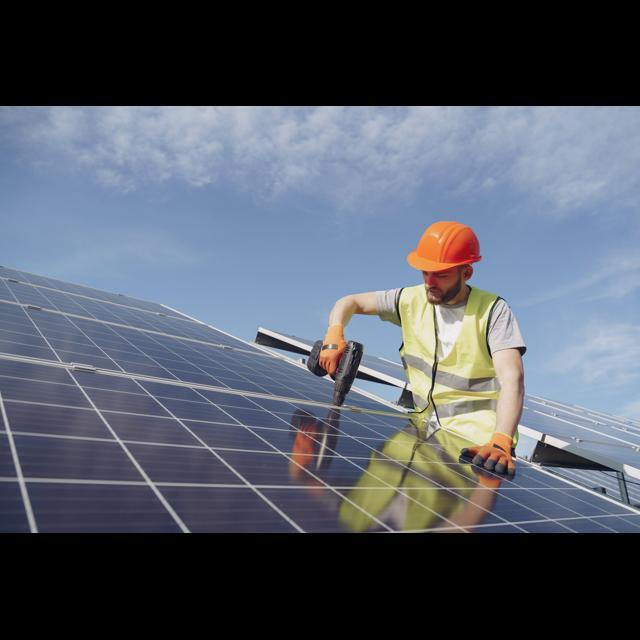helmet: (402, 214, 494, 280)
safety_vest: (380, 272, 514, 426)
